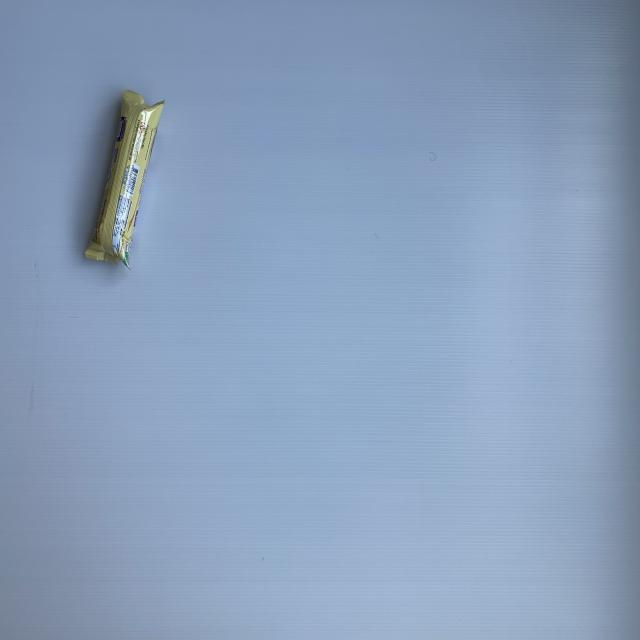cracker: (83, 92, 166, 272)
